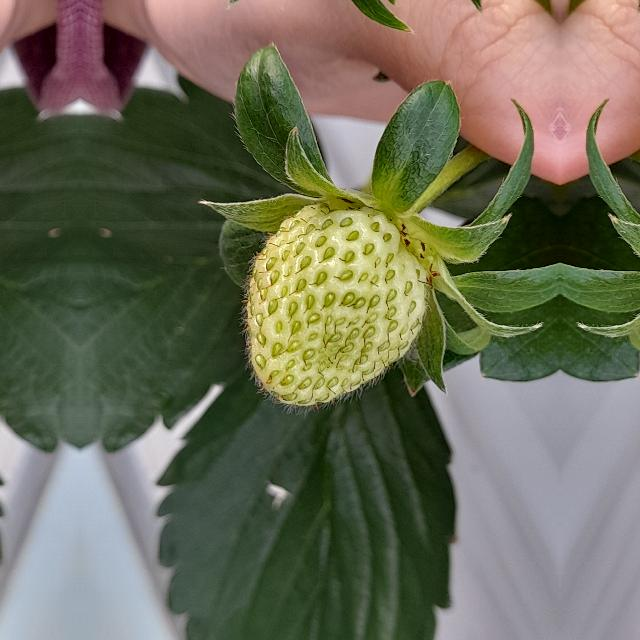Health_25: (236, 202, 432, 416)
